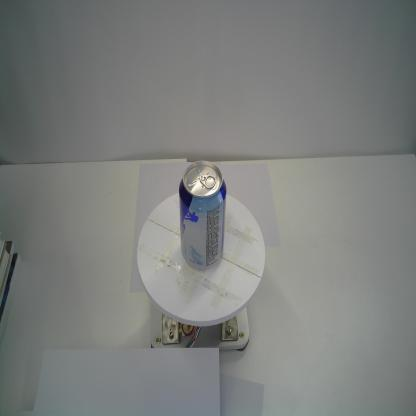Alcohol: (178, 157, 228, 273)
